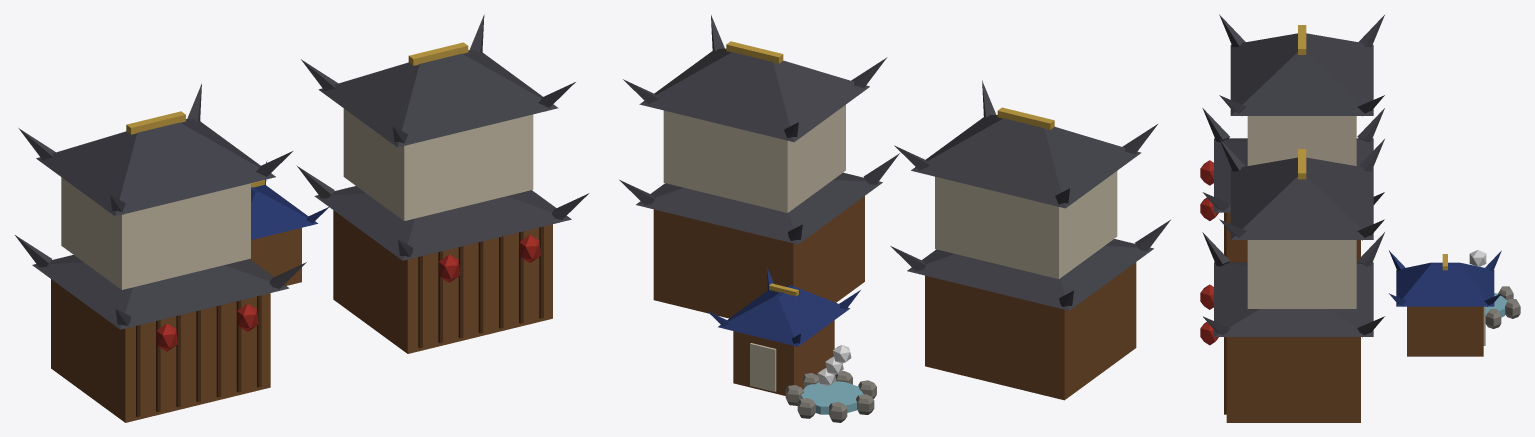
The model's file is macaque_row_broken.glb.
3 renders of one model, left to right at view 1: azimuth 30°, elevation 25°; view 2: azimuth 150°, elevation 25°; view 3: azimuth 270°, elevation 25°, orthographic. The views are drawn at different scales.
Parts seen in each view (by area): view 1: macaque_row_piece3, macaque_row_piece10, macaque_row_piece13, macaque_row_piece6, macaque_row_piece8, macaque_row_piece7, macaque_row_piece2, macaque_row_piece4, macaque_row_piece12, macaque_row_piece0, macaque_row_piece11; view 2: macaque_row_piece3, macaque_row_piece10, macaque_row_piece4, macaque_row_piece2, macaque_row_piece5, macaque_row_piece12, macaque_row_piece11, macaque_row_piece7, macaque_row_piece8, macaque_row_piece1, macaque_row_piece9, macaque_row_piece13 (+1 smaller); view 3: macaque_row_piece6, macaque_row_piece2, macaque_row_piece11, macaque_row_piece3, macaque_row_piece5, macaque_row_piece4, macaque_row_piece13, macaque_row_piece8, macaque_row_piece12, macaque_row_piece9, macaque_row_piece10, macaque_row_piece0 (+2 smaller).
Boxes of the visible parts, x1,y1,x2,y2 form: macaque_row_piece3: [15, 118, 285, 344]; macaque_row_piece10: [51, 253, 306, 422]; macaque_row_piece13: [380, 115, 556, 335]; macaque_row_piece6: [418, 42, 589, 234]; macaque_row_piece8: [261, 192, 462, 353]; macaque_row_piece7: [296, 116, 396, 240]; macaque_row_piece2: [356, 14, 494, 202]; macaque_row_piece4: [301, 59, 375, 190]; macaque_row_piece12: [250, 188, 292, 285]; macaque_row_piece0: [457, 301, 552, 340]; macaque_row_piece11: [154, 111, 292, 166]; macaque_row_piece3: [977, 91, 1170, 310]; macaque_row_piece10: [925, 256, 1136, 400]; macaque_row_piece4: [663, 110, 830, 285]; macaque_row_piece2: [619, 49, 833, 196]; macaque_row_piece5: [632, 180, 791, 383]; macaque_row_piece12: [735, 246, 891, 422]; macaque_row_piece11: [943, 80, 1024, 286]; macaque_row_piece7: [722, 83, 860, 318]; macaque_row_piece8: [766, 162, 886, 302]; macaque_row_piece1: [886, 145, 955, 352]; macaque_row_piece9: [920, 147, 965, 299]; macaque_row_piece13: [813, 57, 887, 199]; macaque_row_piece6: [1203, 159, 1343, 391]; macaque_row_piece2: [1251, 149, 1384, 395]; macaque_row_piece11: [1219, 37, 1373, 160]; macaque_row_piece3: [1200, 14, 1384, 174]; macaque_row_piece5: [1341, 256, 1501, 422]; macaque_row_piece4: [1274, 139, 1384, 422]; macaque_row_piece13: [1200, 138, 1257, 406]; macaque_row_piece8: [1209, 243, 1460, 356]; macaque_row_piece12: [1383, 192, 1520, 356]; macaque_row_piece9: [1313, 91, 1373, 165]; macaque_row_piece10: [1200, 152, 1373, 262]; macaque_row_piece0: [1224, 380, 1300, 422].
Bounding box in the file's own units: 5.88 × 3.02 × 3.81.
